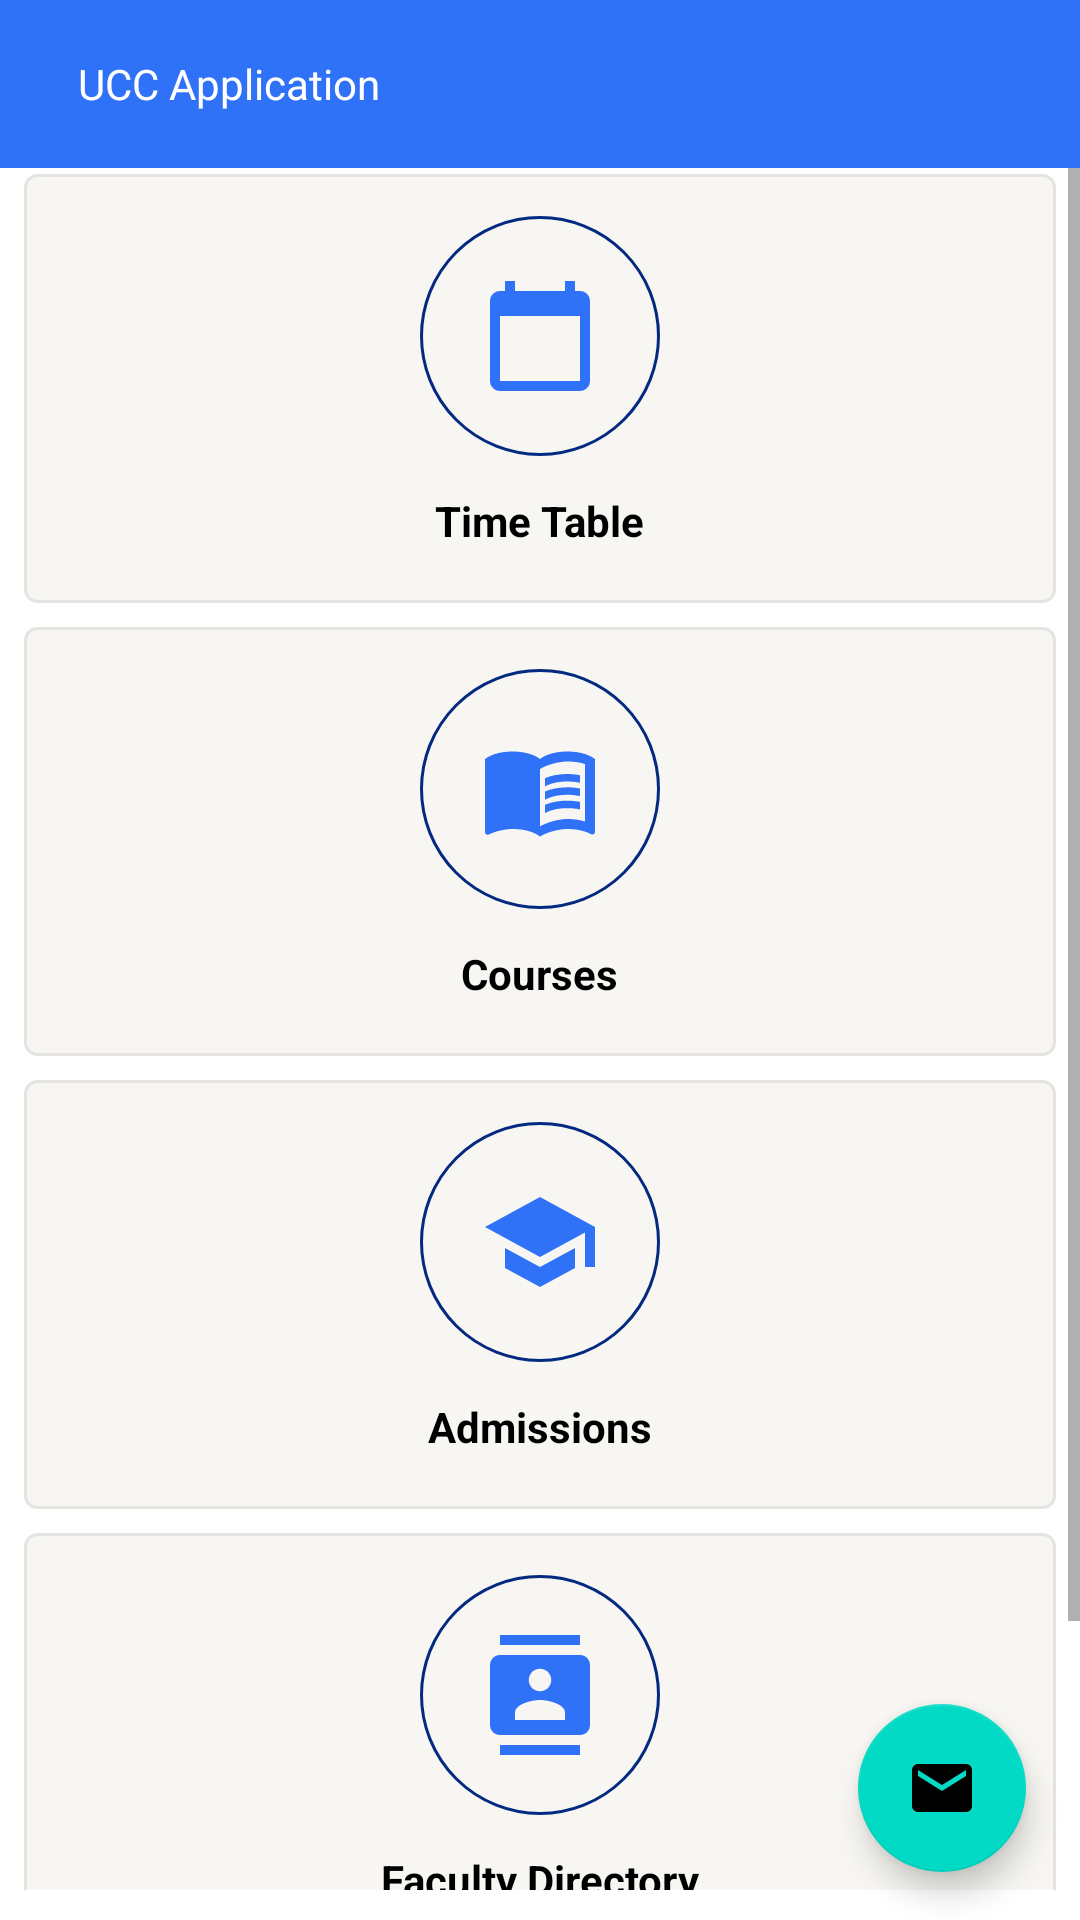

Named icons in this screenshot (1080px×1920px) and their centers, point (x, y):
calender: point (540, 336)
school: point (540, 1242)
